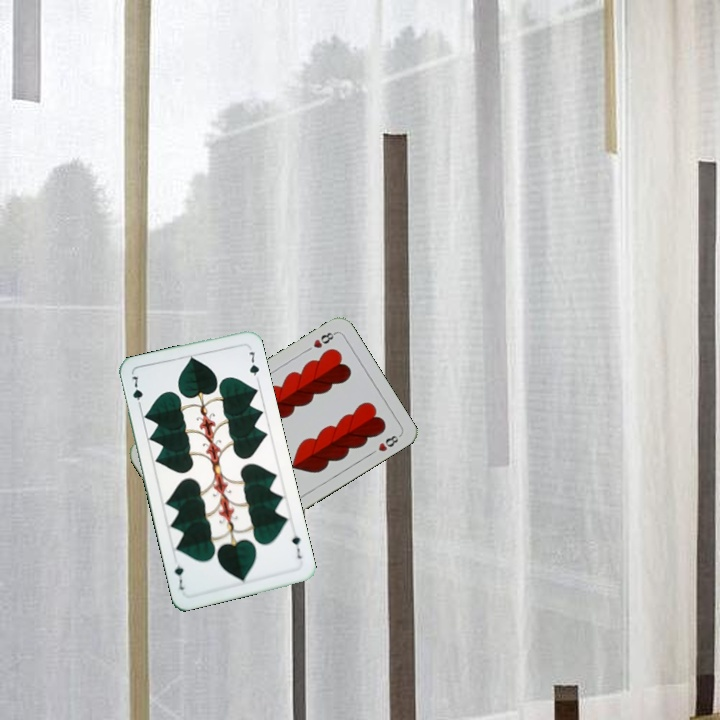G7: (127, 372, 145, 411), (288, 531, 306, 561)
H8: (309, 328, 338, 351)
